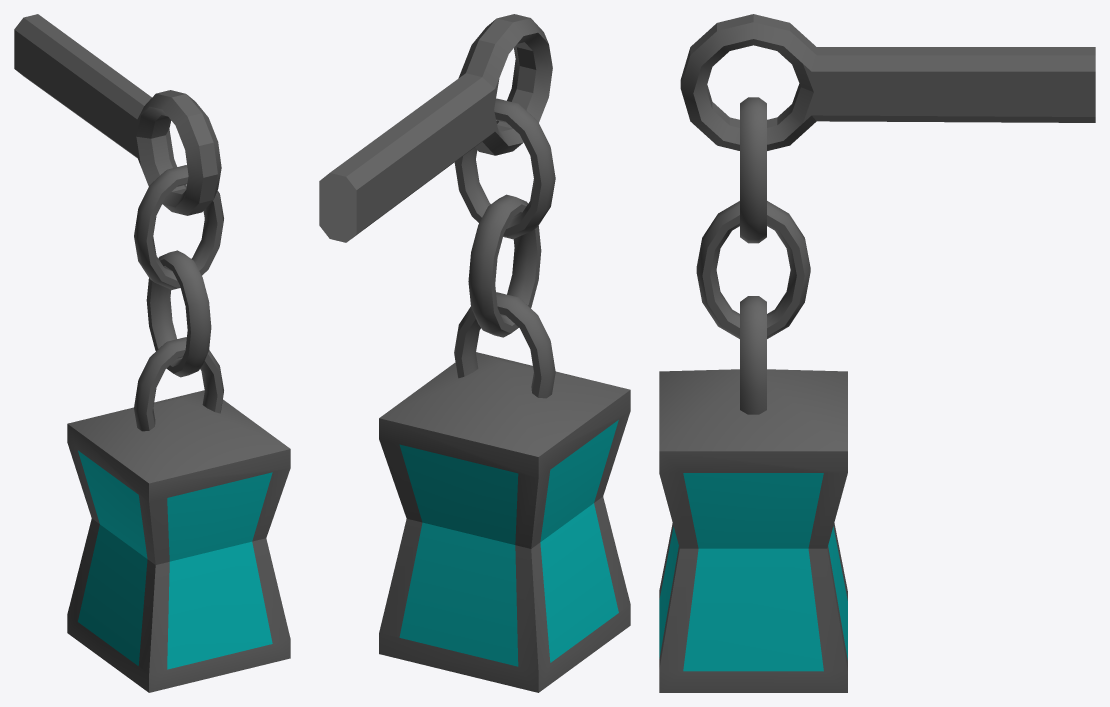
Rendered from Lantern.fbx.
The picture shows the model from 3 angles, left to right: view 1: azimuth 30°, elevation 25°; view 2: azimuth 150°, elevation 25°; view 3: azimuth 270°, elevation 25°; orthographic projection. The views are drawn at different scales.
Visible parts, largest first — view 1: Lantern; view 2: Lantern; view 3: Lantern.
Boxes of the visible parts, x1,y1,x2,y2 form: Lantern: (14,14,290,692); Lantern: (319,14,630,692); Lantern: (659,14,1095,692).
Bounding box in the file's own units: 31.4 × 117 × 72.63.
